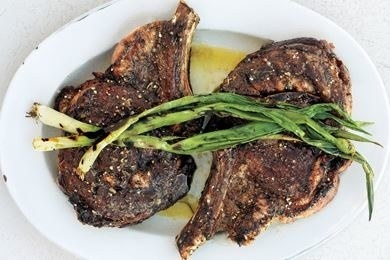background: (15, 0, 233, 106)
